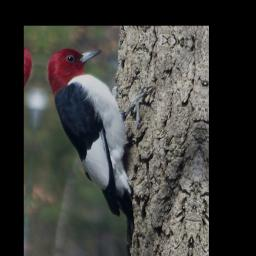Woodpecker: (34, 42, 161, 225)
